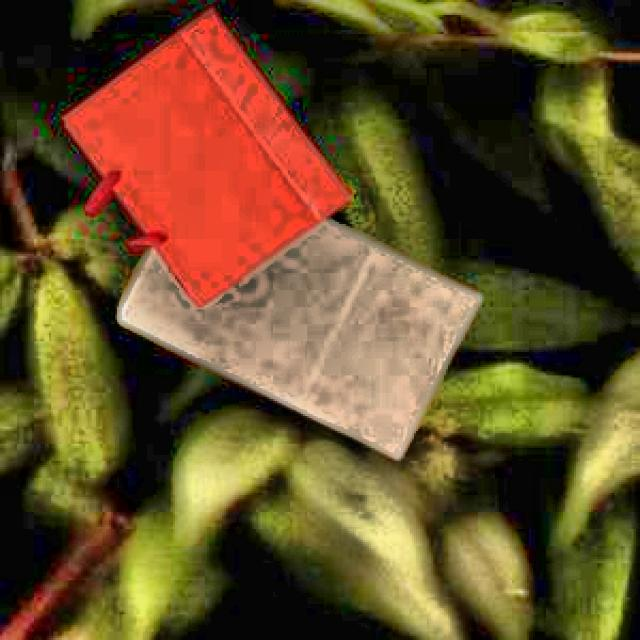Paper-bag: (105, 166, 488, 484), (49, 0, 357, 307)
